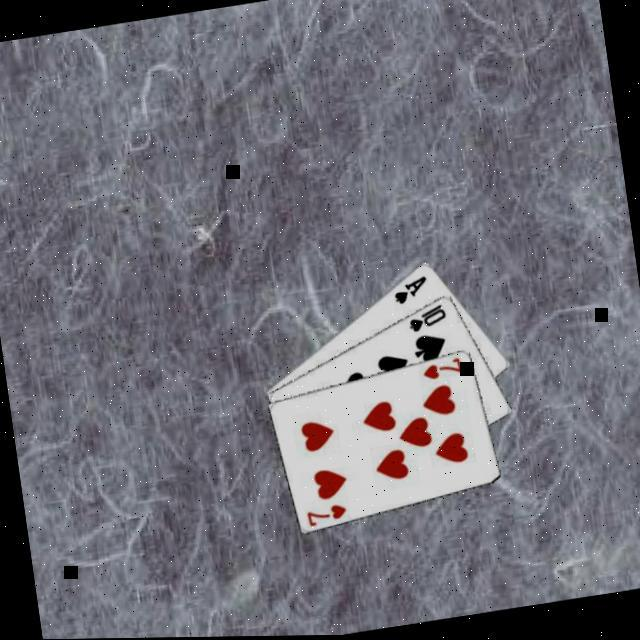10S: (404, 300, 452, 336)
7H: (418, 354, 466, 384), (304, 500, 352, 530)
AS: (389, 272, 434, 308)
